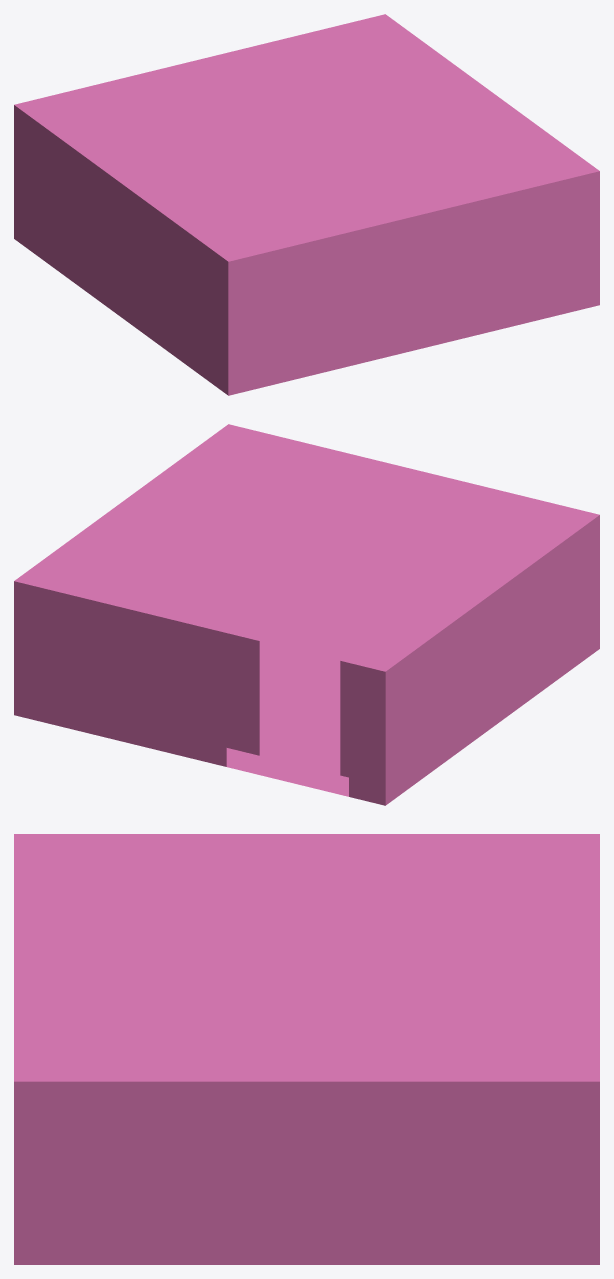
Rendered from house_1.glb.
The picture shows the model from 3 angles, top to bottom: view 1: azimuth 30°, elevation 25°; view 2: azimuth 150°, elevation 25°; view 3: azimuth 270°, elevation 25°; orthographic projection. The views are drawn at different scales.
Parts seen in each view (by area): view 1: Cube; view 2: Cube; view 3: Cube.
Part boxes in pixels (<box>): Cube: <box>14,14,599,395</box>; Cube: <box>14,424,599,805</box>; Cube: <box>14,834,599,1264</box>.
Size of the model in its own units: 9.25 by 3.19 by 9.25.
